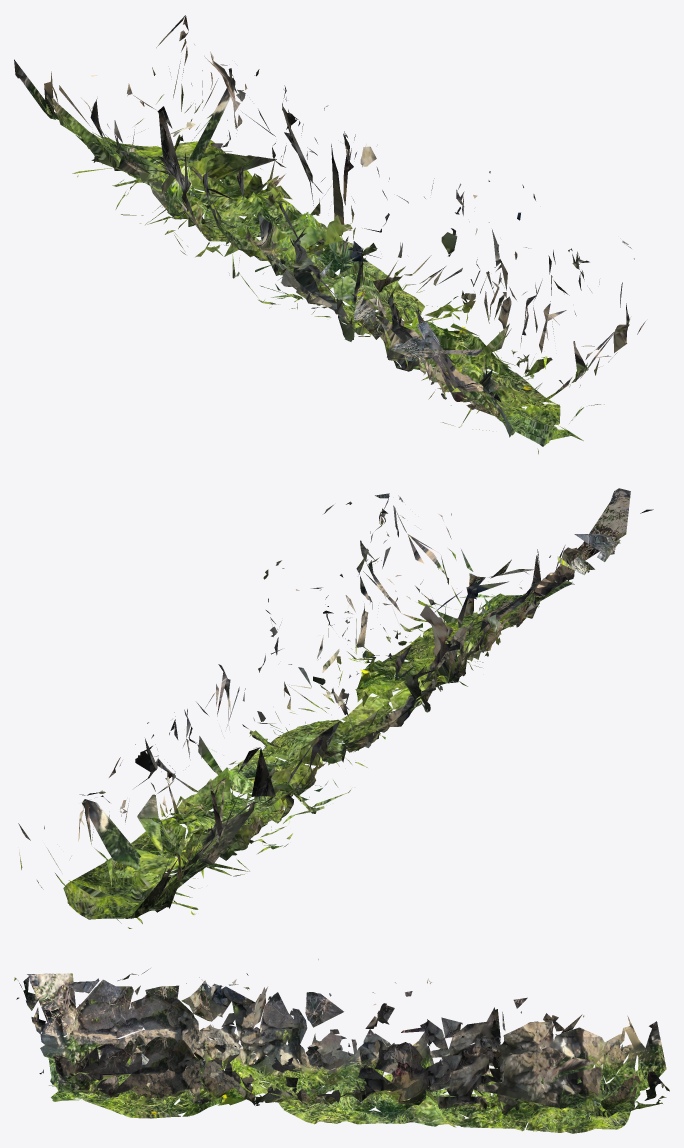
The model's file is pathrocks.glb.
3 renders of one model, top to bottom at view 1: azimuth 30°, elevation 25°; view 2: azimuth 150°, elevation 25°; view 3: azimuth 270°, elevation 25°, orthographic. The views are drawn at different scales.
Visible parts, largest first — view 1: Mesh_0.001; view 2: Mesh_0.001; view 3: Mesh_0.001.
Boxes of the visible parts, bbox=[...] form: Mesh_0.001: bbox=[14, 15, 646, 454]; Mesh_0.001: bbox=[18, 488, 653, 928]; Mesh_0.001: bbox=[14, 959, 669, 1133].
Bounding box in the file's own units: 11.97 × 7.29 × 36.84.
3 materials, 3 textured.
